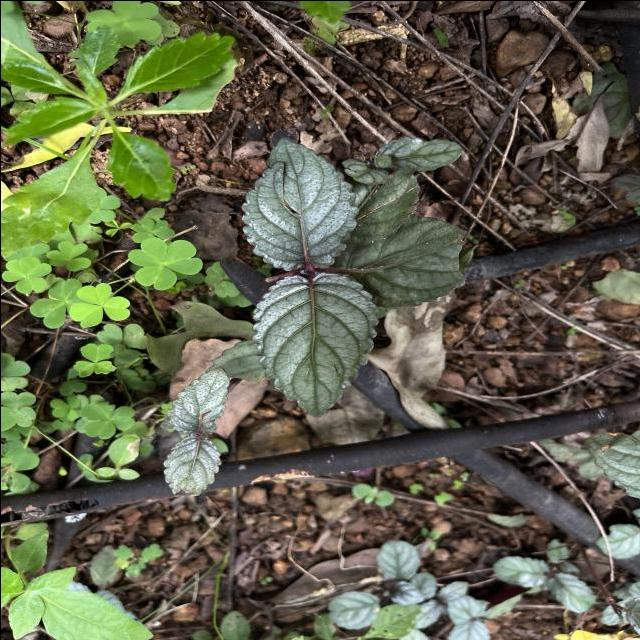Hemigraphis colorata: (247, 270, 381, 420), (237, 133, 361, 273), (332, 210, 468, 312), (154, 365, 232, 434), (158, 432, 223, 500)
